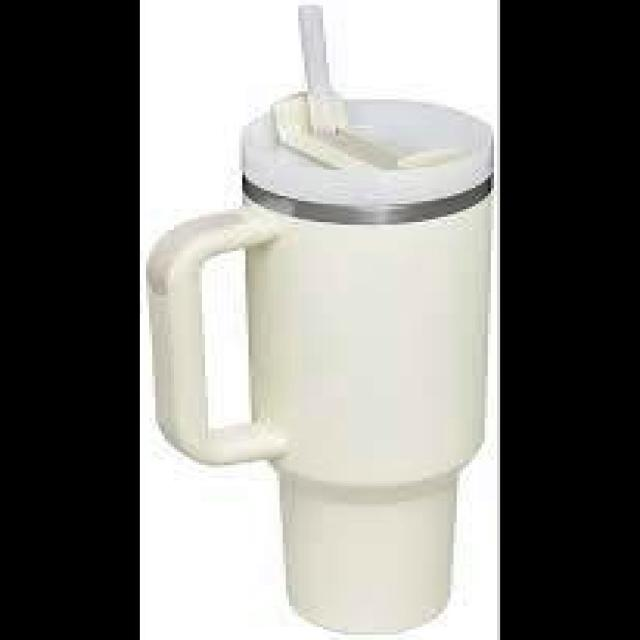bottle: (154, 9, 489, 639)
